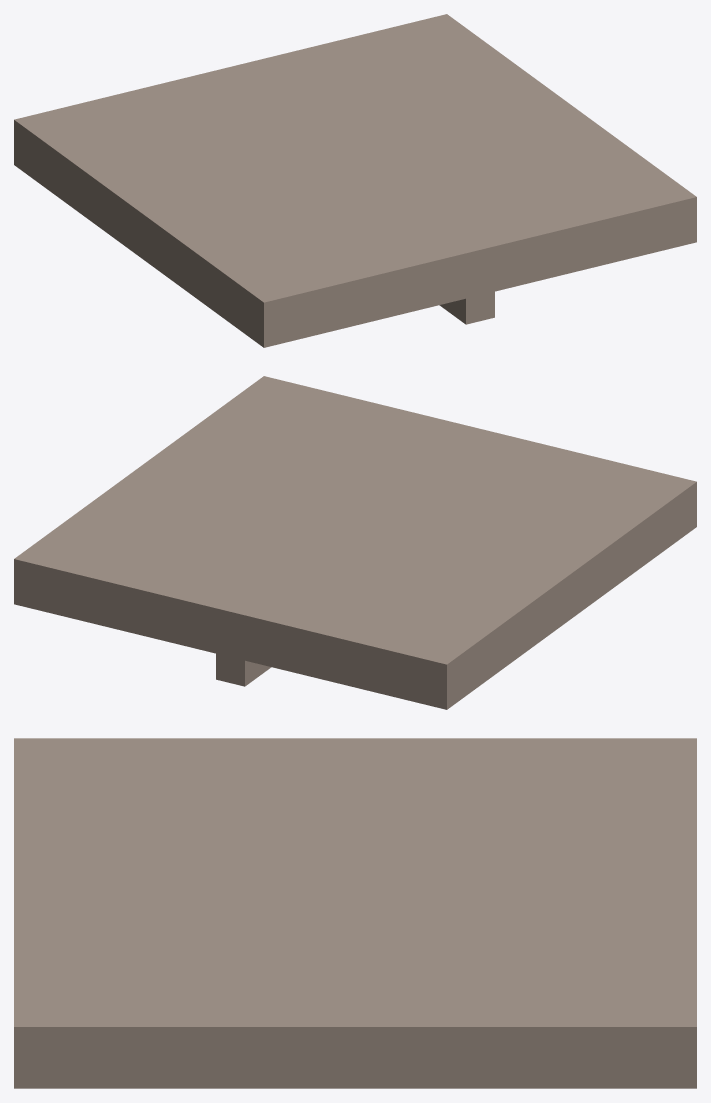
Rendered from Floor_1.fbx.
3 views of the same model, one above another, from view 1: azimuth 30°, elevation 25°; view 2: azimuth 150°, elevation 25°; view 3: azimuth 270°, elevation 25° (orthographic). The views are drawn at different scales.
Parts seen in each view (by area): view 1: Floor_1_LOD0; view 2: Floor_1_LOD0; view 3: Floor_1_LOD0.
Boxes of the visible parts, <box> form: Floor_1_LOD0: <box>14,14,696,347</box>; Floor_1_LOD0: <box>14,376,696,709</box>; Floor_1_LOD0: <box>14,738,696,1088</box>.
Size of the model in its own units: 200 by 31.49 by 200.
